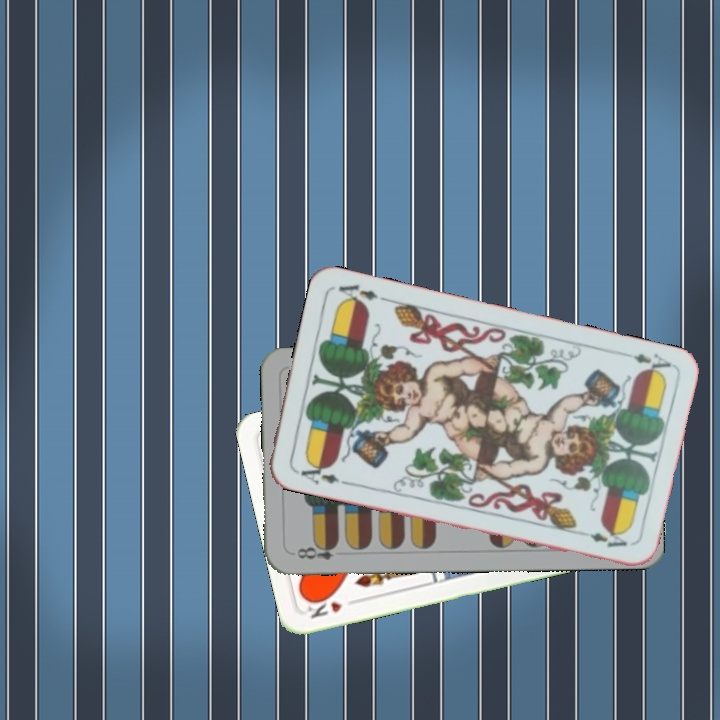E8: (293, 539, 340, 562)
EA: (290, 457, 349, 487), (616, 348, 674, 378)
HK: (303, 592, 362, 621)
